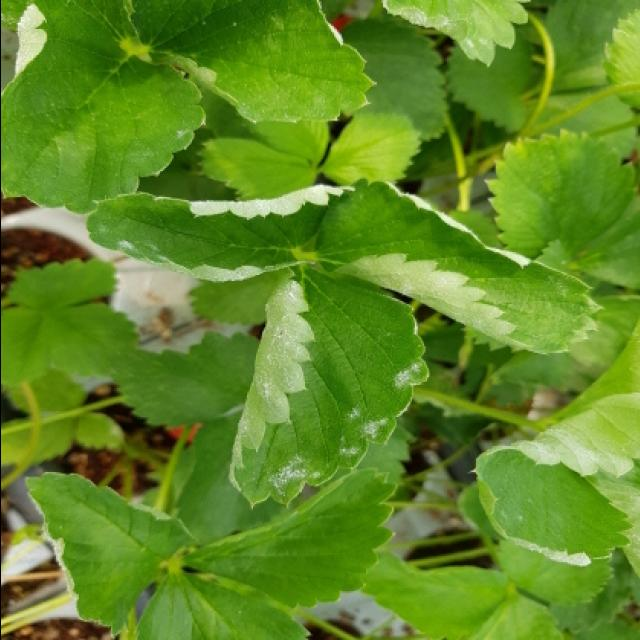Powdery Mildew Leaf: (302, 177, 605, 357), (226, 262, 430, 513), (2, 0, 207, 217), (472, 391, 640, 566), (22, 471, 195, 637), (82, 182, 355, 283), (379, 0, 532, 70)
